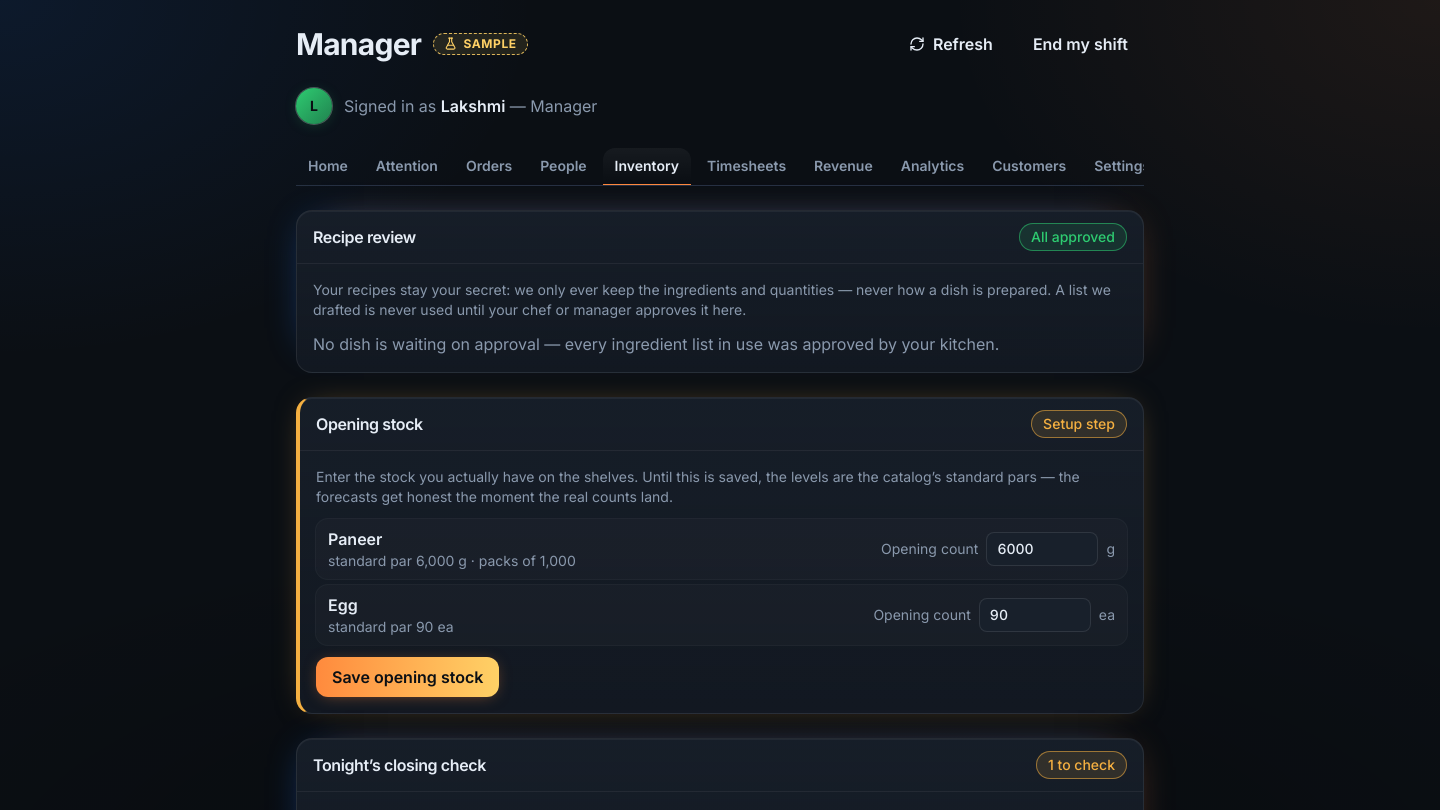
Test case: opening_stock_entry_saves_the_real_counts
Check: the text "Setup step" is shown, box left=1031, top=410, right=1127, bottom=438
Replace the text in the number field named "Opening count for Paneer" with "4321" at (1042, 549), box left=986, top=532, right=1098, bottom=566
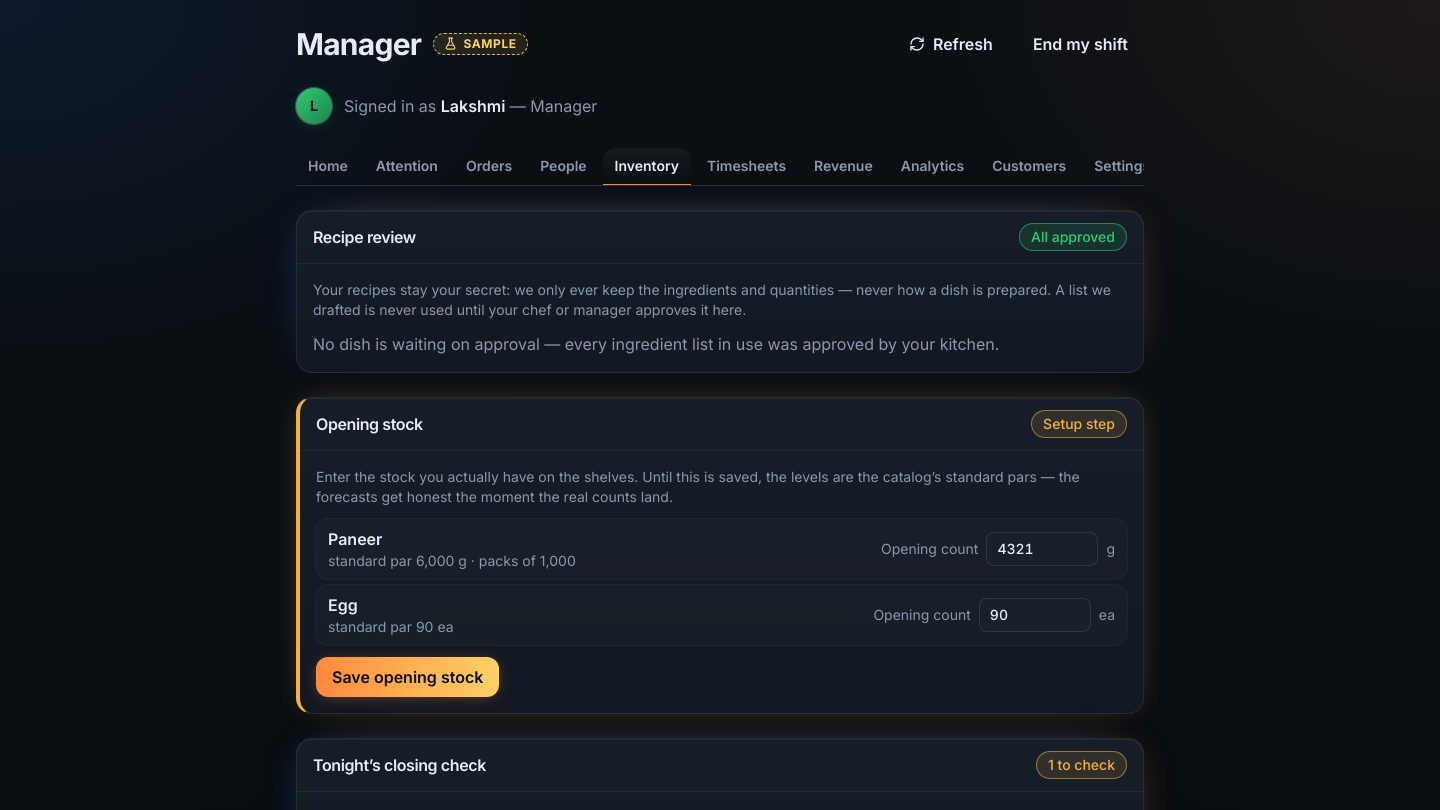
Click the button "Save opening stock".
click(408, 677)  # box left=316, top=657, right=499, bottom=697
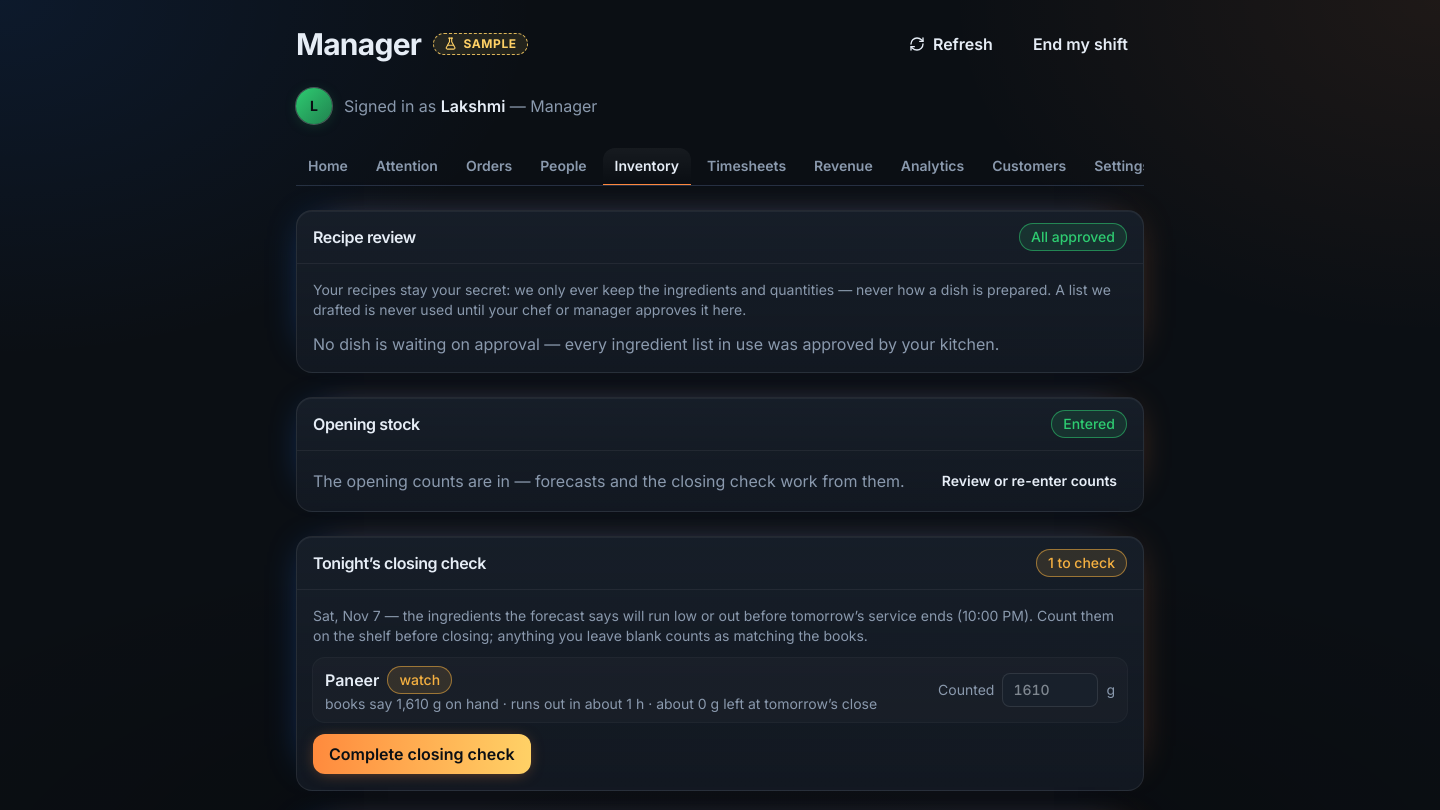
Check: the text "Entered" is shown, box left=1051, top=410, right=1127, bottom=438
